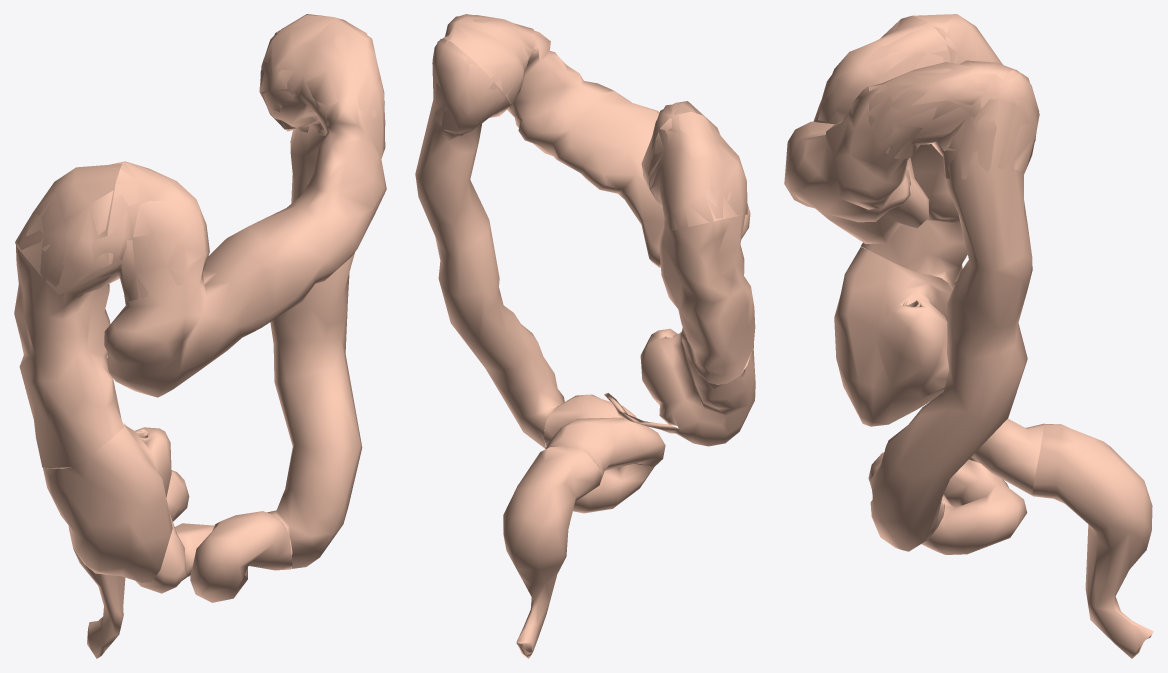
File: sbu_m_intestine_large-20.glb
The picture shows the model from 3 angles, left to right: view 1: azimuth 30°, elevation 25°; view 2: azimuth 150°, elevation 25°; view 3: azimuth 270°, elevation 25°; orthographic projection. The views are drawn at different scales.
Parts seen in each view (by area): view 1: VH_M_transverse_colon, VH_M_ascending_colon, VH_M_descending_colon, VH_M_caecum, VH_M_hepatic_flexure_of_colon, VH_M_sigmoid_colon, VH_M_splenic_flexure_of_colon, VH_M_rectum; view 2: VH_M_descending_colon, VH_M_transverse_colon, VH_M_ascending_colon, VH_M_rectum, VH_M_sigmoid_colon, VH_M_caecum, VH_M_splenic_flexure_of_colon, VH_M_hepatic_flexure_of_colon, VH_M_vermiform_appendix; view 3: VH_M_descending_colon, VH_M_transverse_colon, VH_M_caecum, VH_M_rectum, VH_M_sigmoid_colon, VH_M_splenic_flexure_of_colon, VH_M_ascending_colon, VH_M_hepatic_flexure_of_colon.
Part boxes in pixels (box(x1,y1,x2,y2)): VH_M_transverse_colon: box(104, 15, 386, 397); VH_M_ascending_colon: box(14, 163, 124, 468); VH_M_descending_colon: box(267, 20, 362, 568); VH_M_caecum: box(43, 423, 172, 582); VH_M_hepatic_flexure_of_colon: box(15, 161, 209, 301); VH_M_sigmoid_colon: box(136, 470, 292, 602); VH_M_splenic_flexure_of_colon: box(259, 14, 385, 135); VH_M_rectum: box(73, 548, 125, 658); VH_M_descending_colon: box(415, 39, 564, 448); VH_M_transverse_colon: box(444, 15, 750, 267); VH_M_ascending_colon: box(649, 111, 755, 384); VH_M_rectum: box(503, 446, 601, 658); VH_M_sigmoid_colon: box(544, 394, 665, 513); VH_M_caecum: box(640, 328, 755, 446); VH_M_splenic_flexure_of_colon: box(432, 14, 536, 136); VH_M_hepatic_flexure_of_colon: box(642, 101, 747, 230); VH_M_vermiform_appendix: box(604, 393, 679, 433); VH_M_descending_colon: box(870, 69, 1039, 551); VH_M_transverse_colon: box(784, 16, 1014, 243); VH_M_caecum: box(834, 247, 952, 426); VH_M_rectum: box(1032, 423, 1153, 658); VH_M_sigmoid_colon: box(868, 418, 1044, 554); VH_M_splenic_flexure_of_colon: box(869, 60, 1039, 179); VH_M_ascending_colon: box(861, 14, 1002, 290); VH_M_hepatic_flexure_of_colon: box(818, 14, 996, 121).
Size of the model in its own units: 0.2598 by 0.451 by 0.225.
